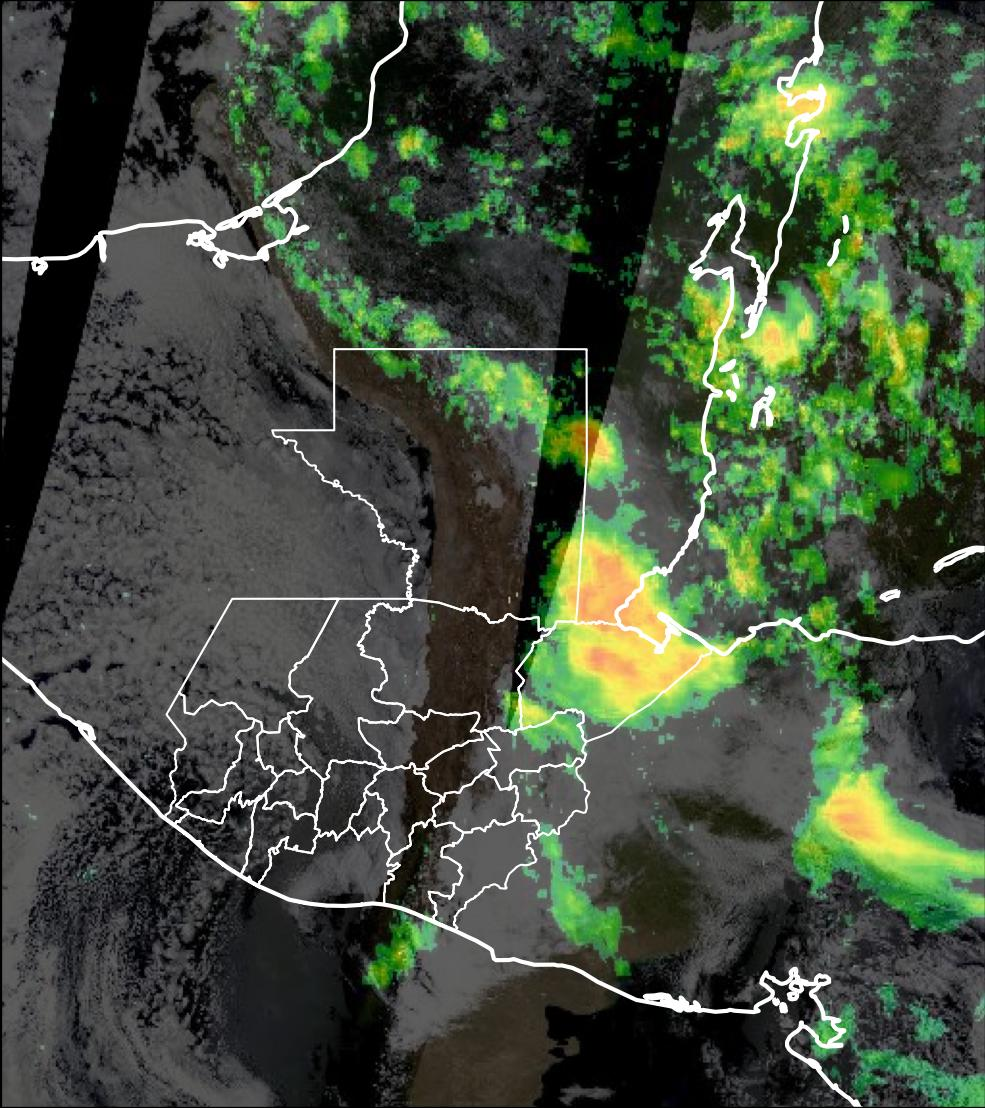precipitacion: (562, 544, 731, 706), (822, 776, 925, 864)
